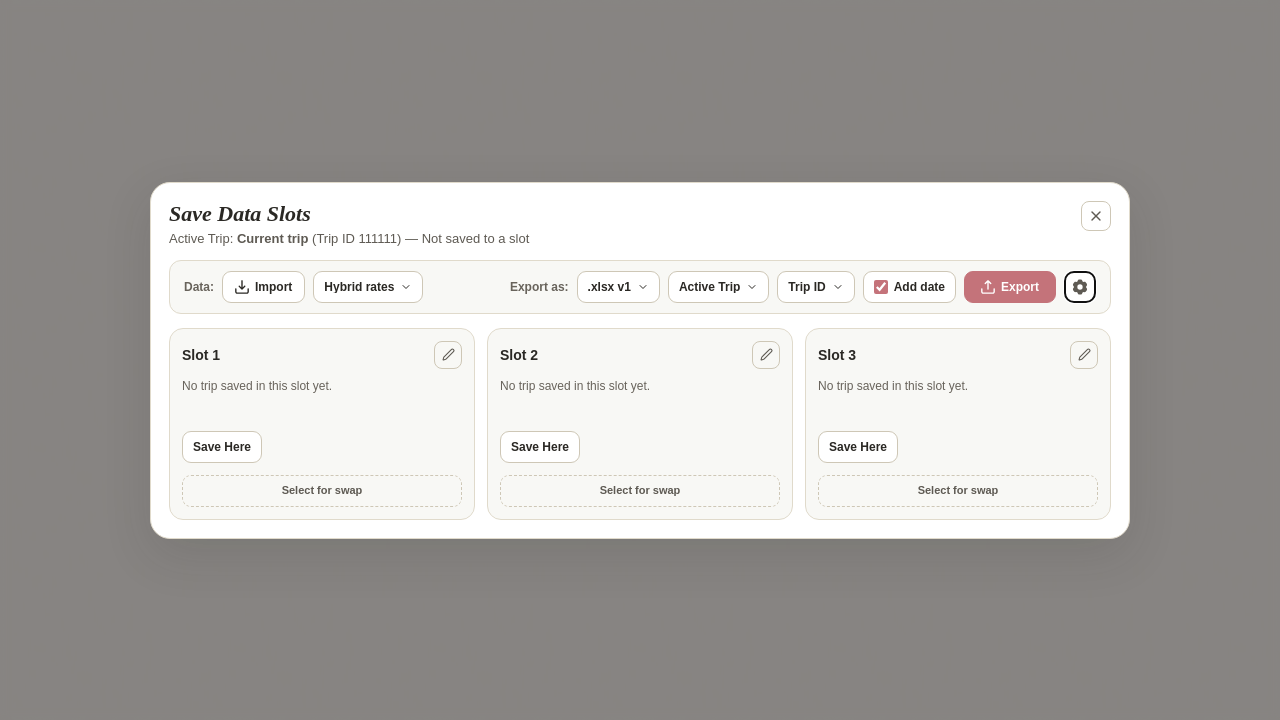
Scenario: SaveDataPanel › closes only the nested settings dialog on Escape
Click the button named "Import / Export Settings": (1080, 286) x1=1064 y1=270 x2=1096 y2=302
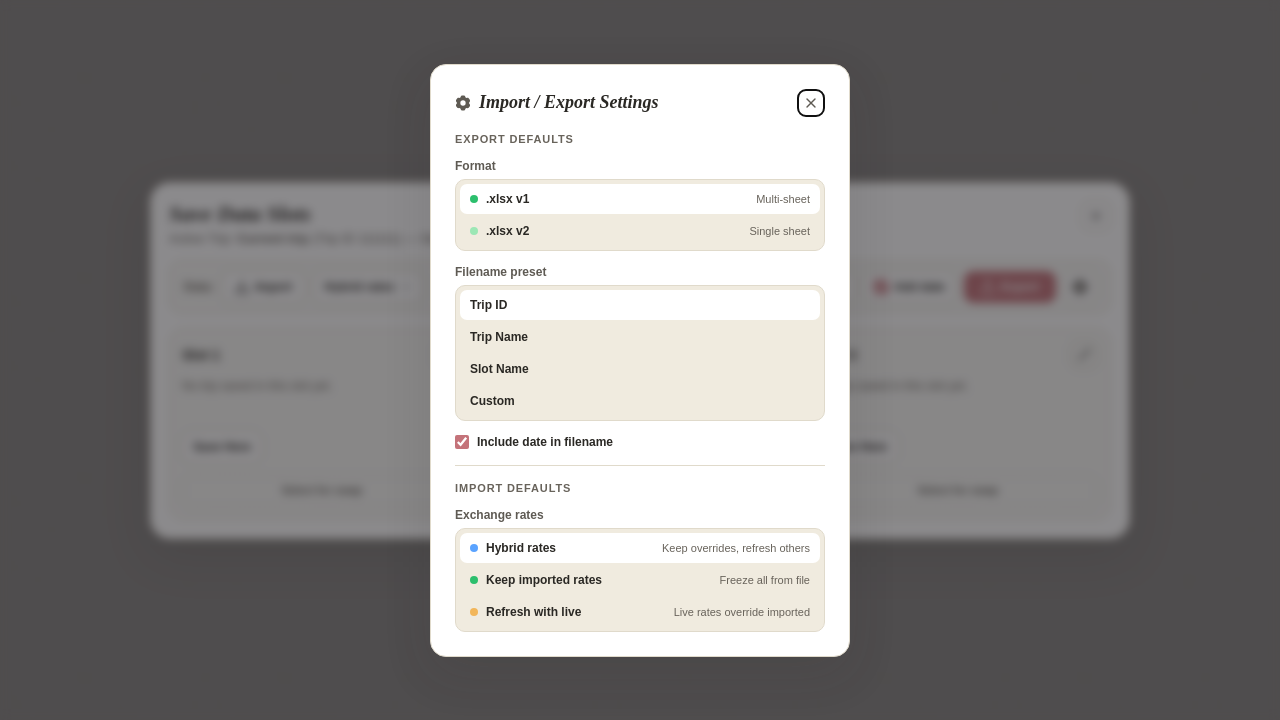
Expected: the dialog "Import / Export Settings" is shown, x1=430 y1=64 x2=850 y2=656
Press Escape in the button named "Close settings", box x1=797 y1=88 x2=825 y2=116
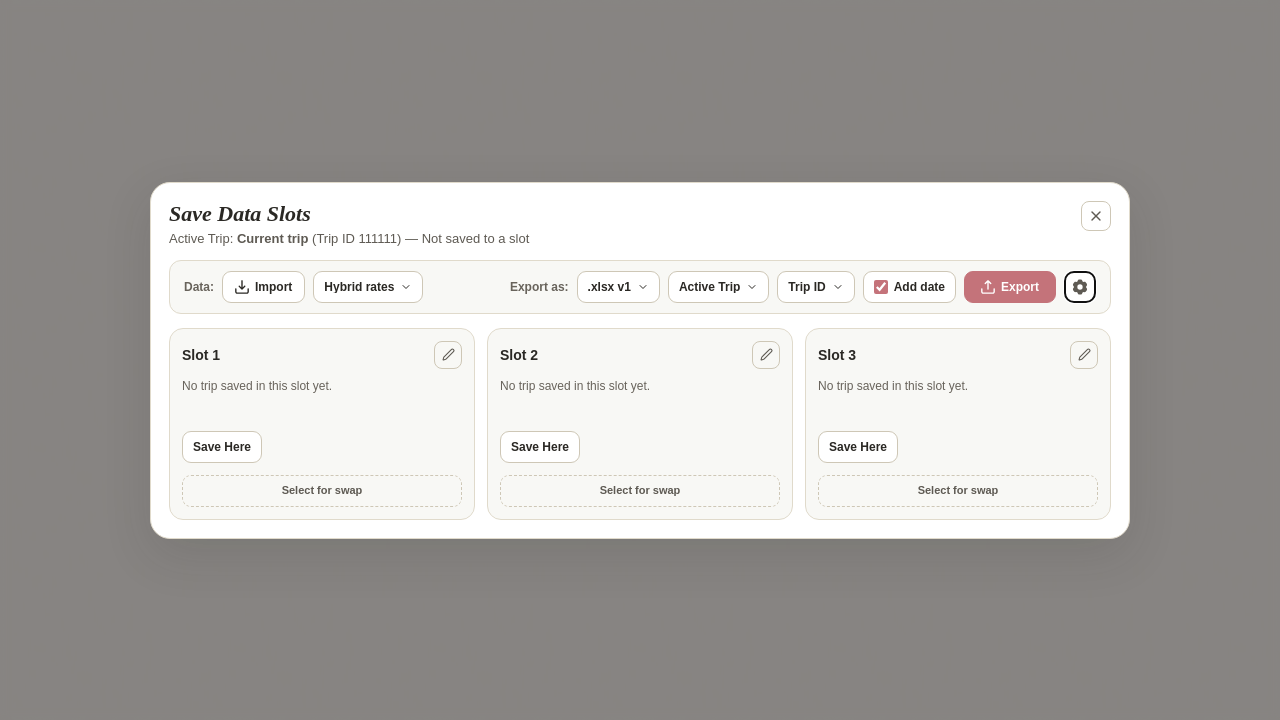
Expected: the dialog "Save Data Slots" is shown, x1=150 y1=182 x2=1130 y2=538
Expected: the heading "Import / Export Settings" is gone
